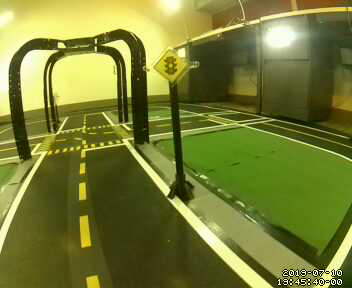Traffic light sign: (153, 48, 186, 82)
